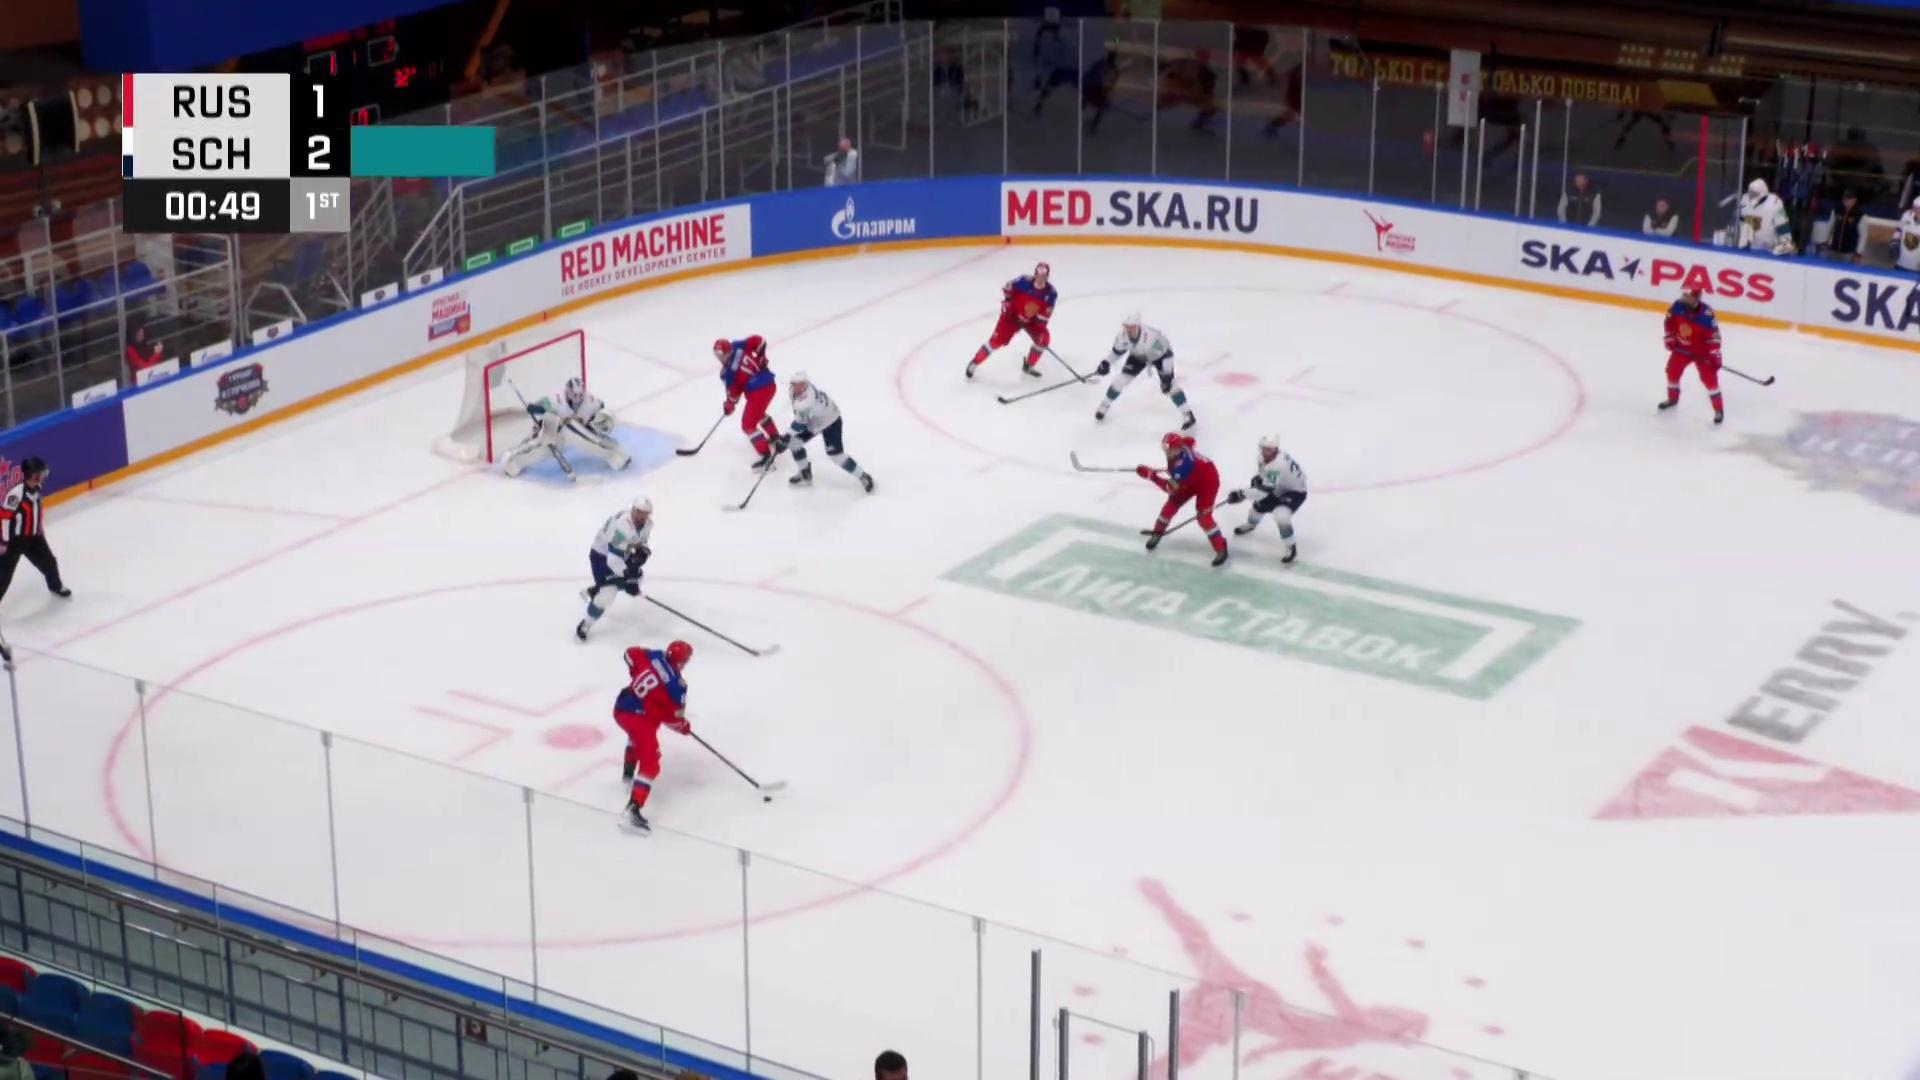ball: (762, 796, 773, 804)
